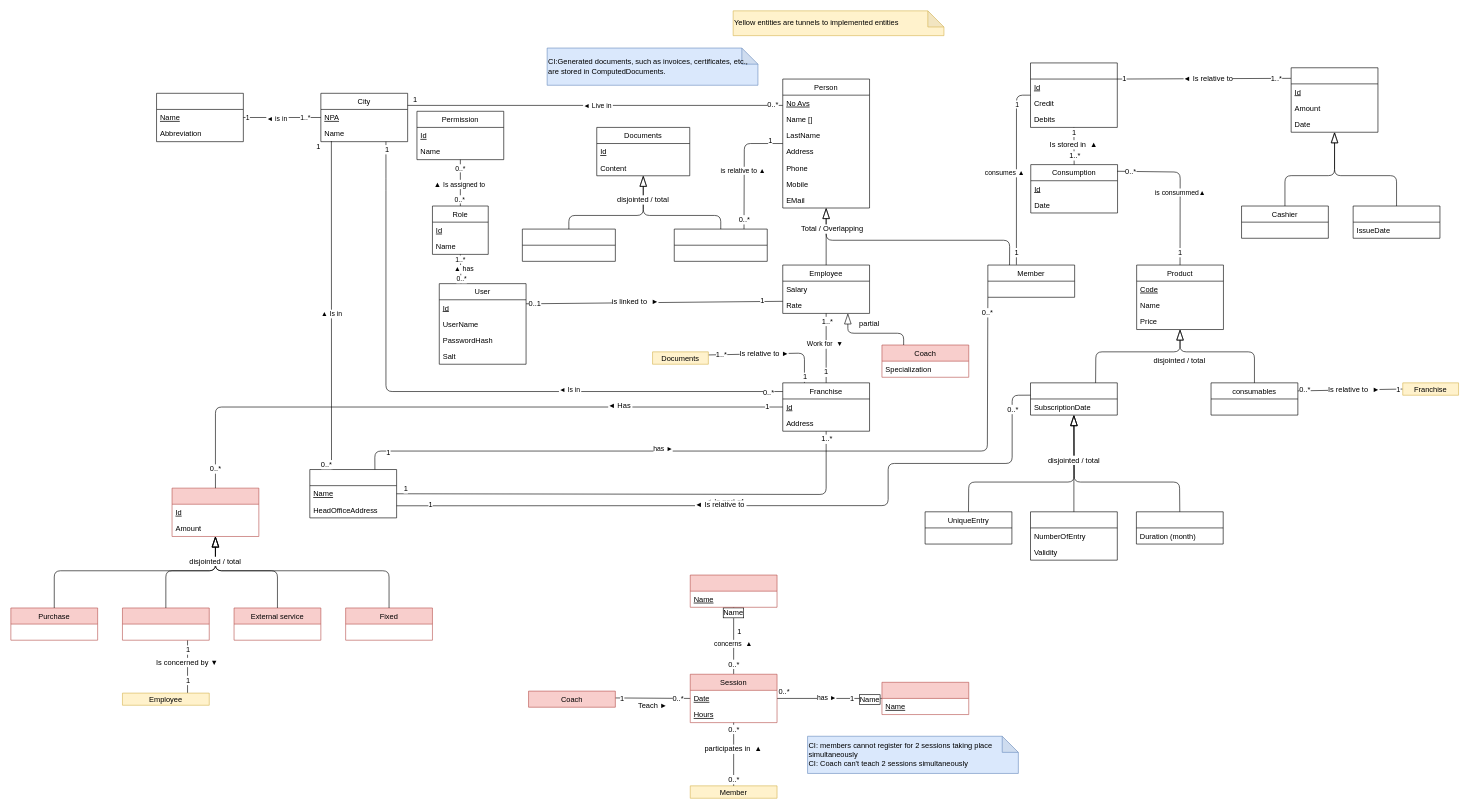
Some shapes in this 1469 by 809 pixel diagram are drawn without their labels. Here are the shapes that lost their labels. From the top down, the box of each, then its label:
(1030, 62, 1117, 127): MemberAccount
(1291, 67, 1378, 132): Paiement
(156, 93, 243, 142): Canton
(1353, 205, 1440, 238): Bill
(522, 228, 615, 261): Templates
(674, 228, 767, 261): ComputedDocument
(1030, 382, 1117, 415): Entry
(171, 488, 259, 536): Charges
(309, 469, 397, 518): Strucutre
(1030, 511, 1117, 560): MultipleEntry
(1136, 511, 1223, 544): Subscription
(690, 574, 777, 607): Cours
(122, 607, 209, 640): Staff
(881, 682, 969, 715): Room
